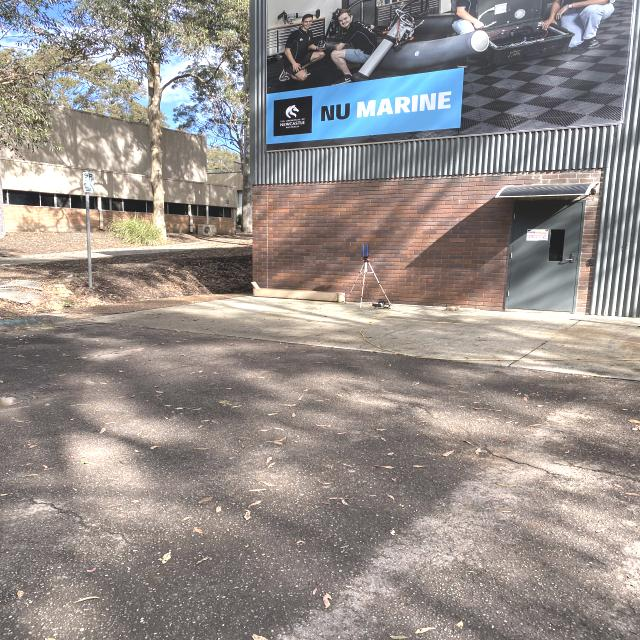matrix: (358, 241, 374, 261)
